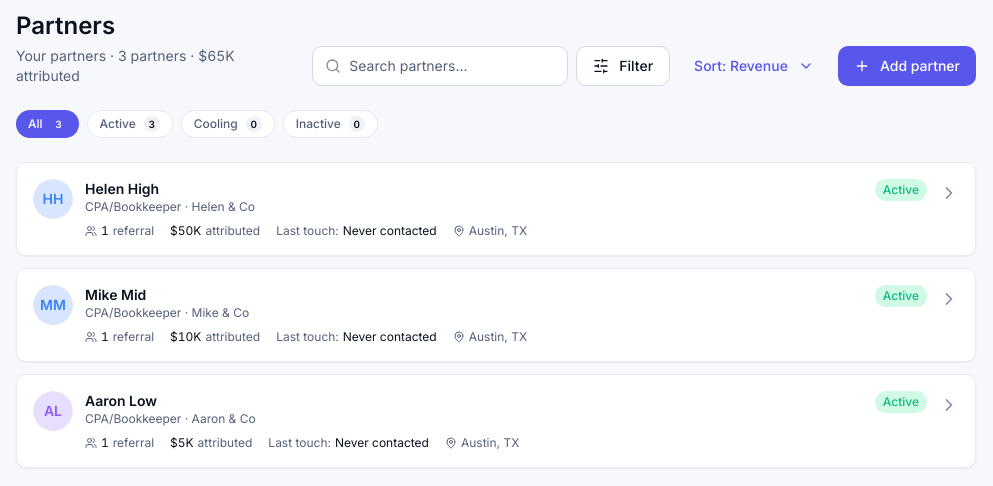
Scenario: PartnersPage / sort + revenue regression › selecting 'Name' from the Sort dropdown reorders the list alphabetically
Click the button "Sort: Revenue": coordinates (754, 66) left=678, top=46, right=830, bottom=86
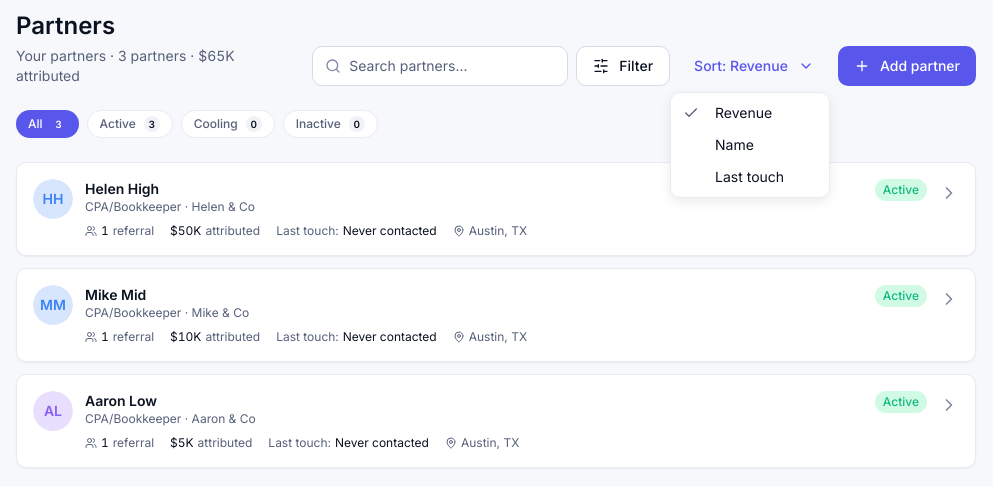
Click the menu item "Name": coordinates (734, 144) left=715, top=136, right=754, bottom=153
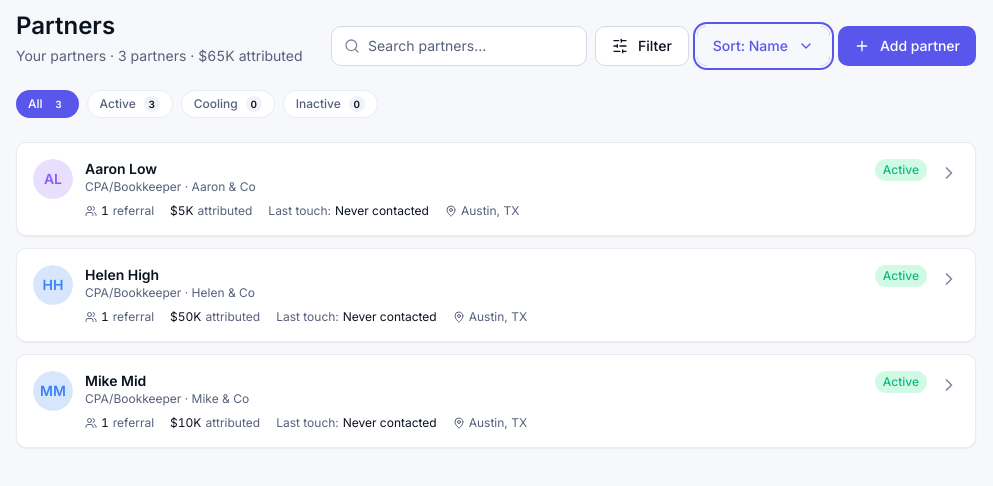
Check: the button "Sort: Name" is shown, box left=697, top=26, right=830, bottom=66
